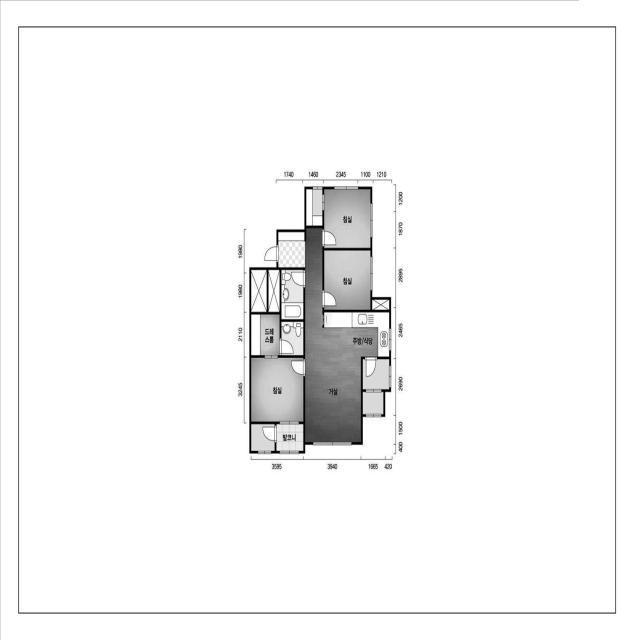space_balconi: (276, 424, 303, 451)
space_bedroom: (306, 189, 371, 248), (251, 358, 303, 422), (324, 250, 370, 310)
space_dressroom: (251, 314, 279, 355)
space_front: (278, 232, 305, 268)
space_kitchen: (322, 312, 389, 389)
space_living_room: (305, 228, 361, 442)
space_other: (251, 270, 267, 312), (251, 424, 275, 451), (268, 270, 280, 312), (363, 392, 383, 414), (372, 299, 389, 310)
space_toilet: (281, 270, 303, 319), (281, 322, 303, 355)
